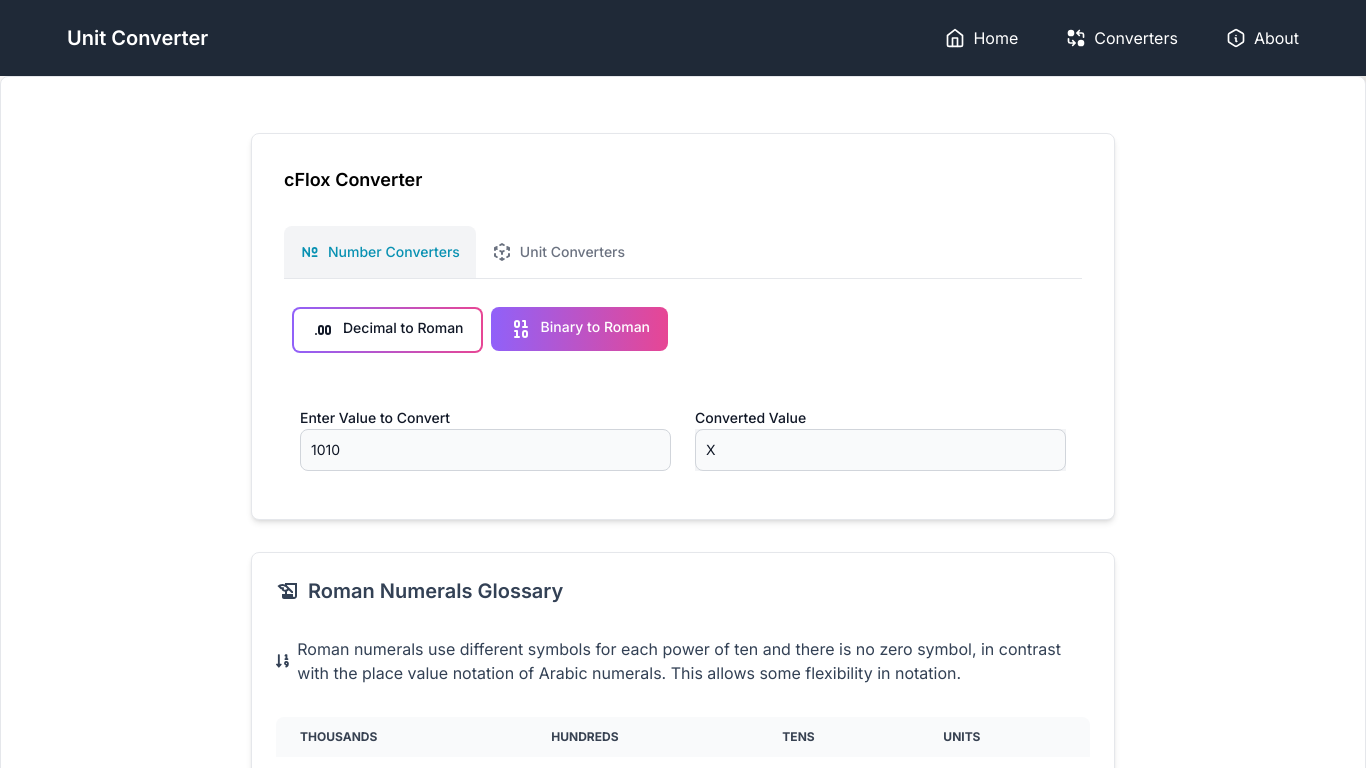
Test case: Converter Page E2E Tests › Unit Converters Tests › displays a loading state during Kilogram to Pound conversion
The image size is (1366, 768).
Click the tab "Unit Converters": {"x": 559, "y": 252} [476,226,641,278]
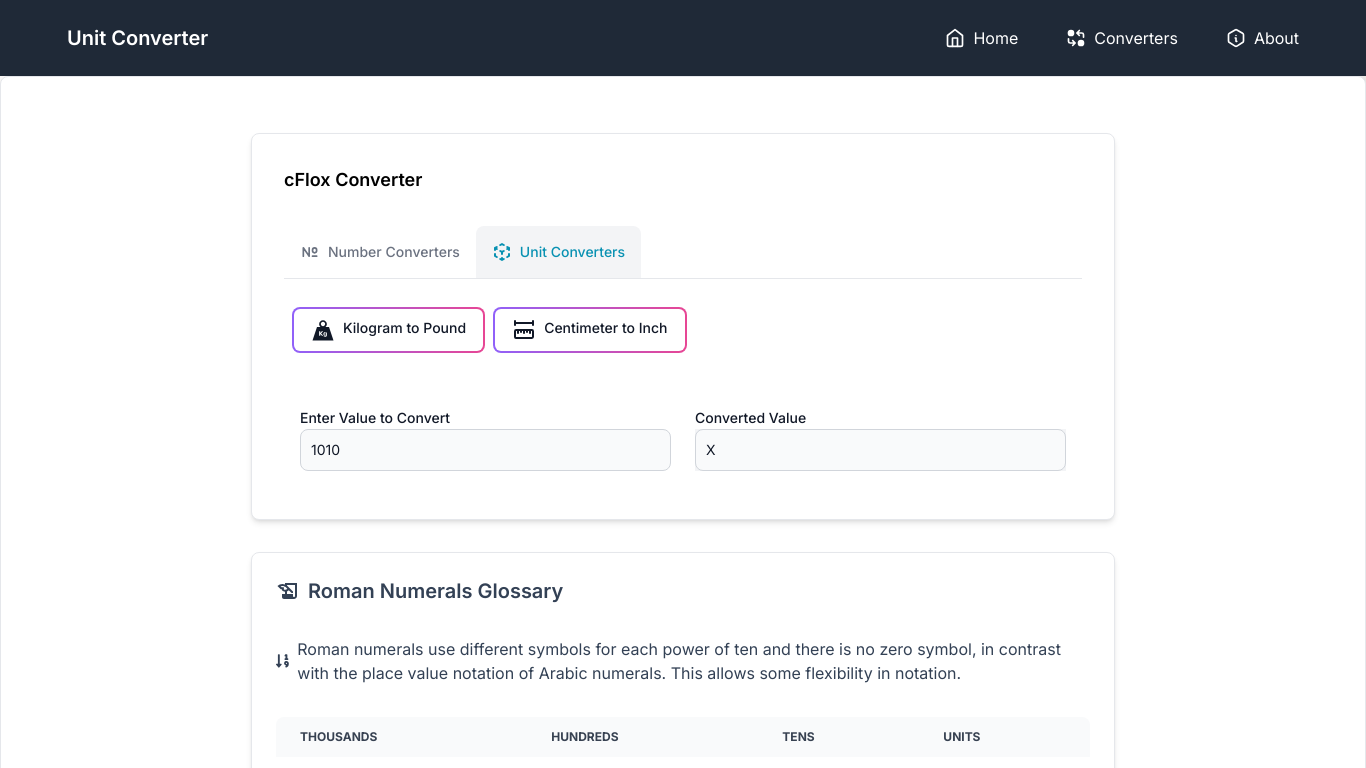
Click the button "Kilogram to Pound": {"x": 389, "y": 330} [292,307,485,353]
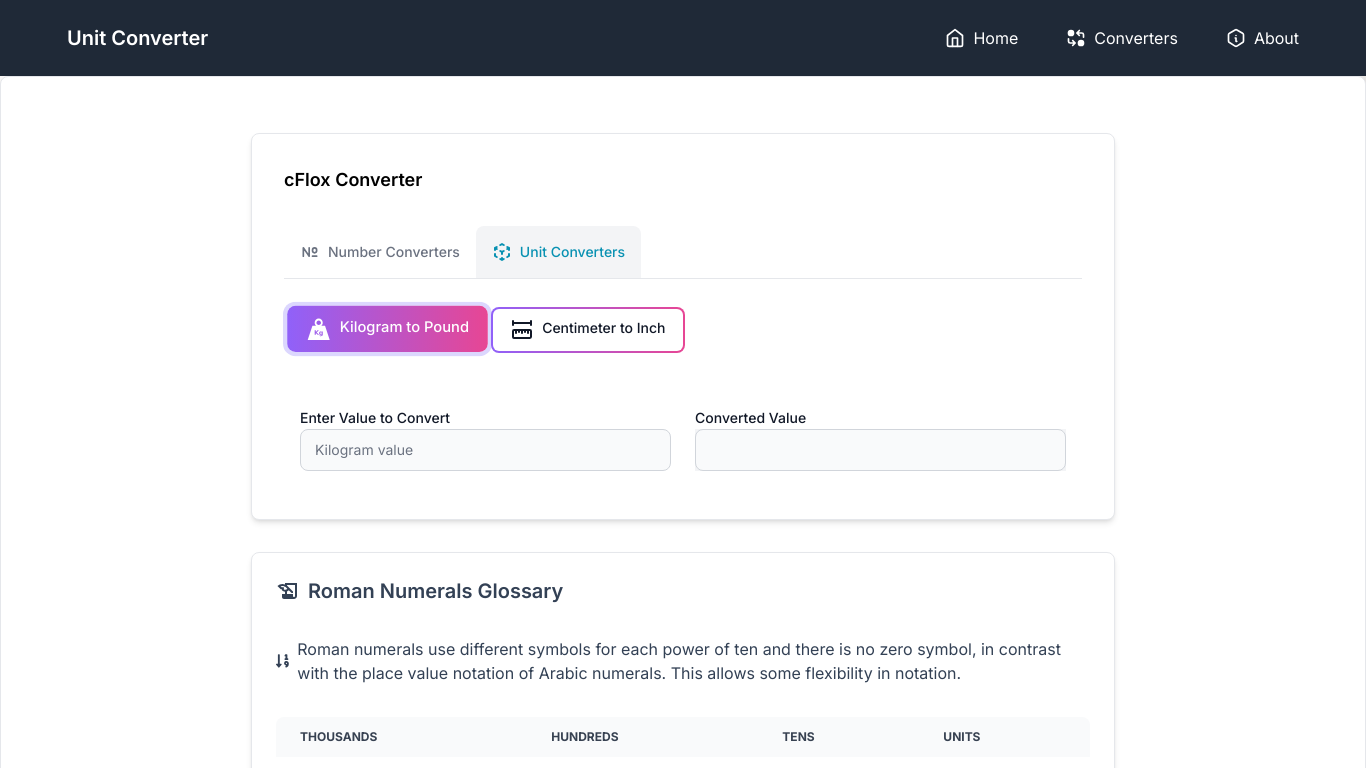
In the field with test id "test-input-value": {"x": 486, "y": 450} [300,429,671,471], type "10"
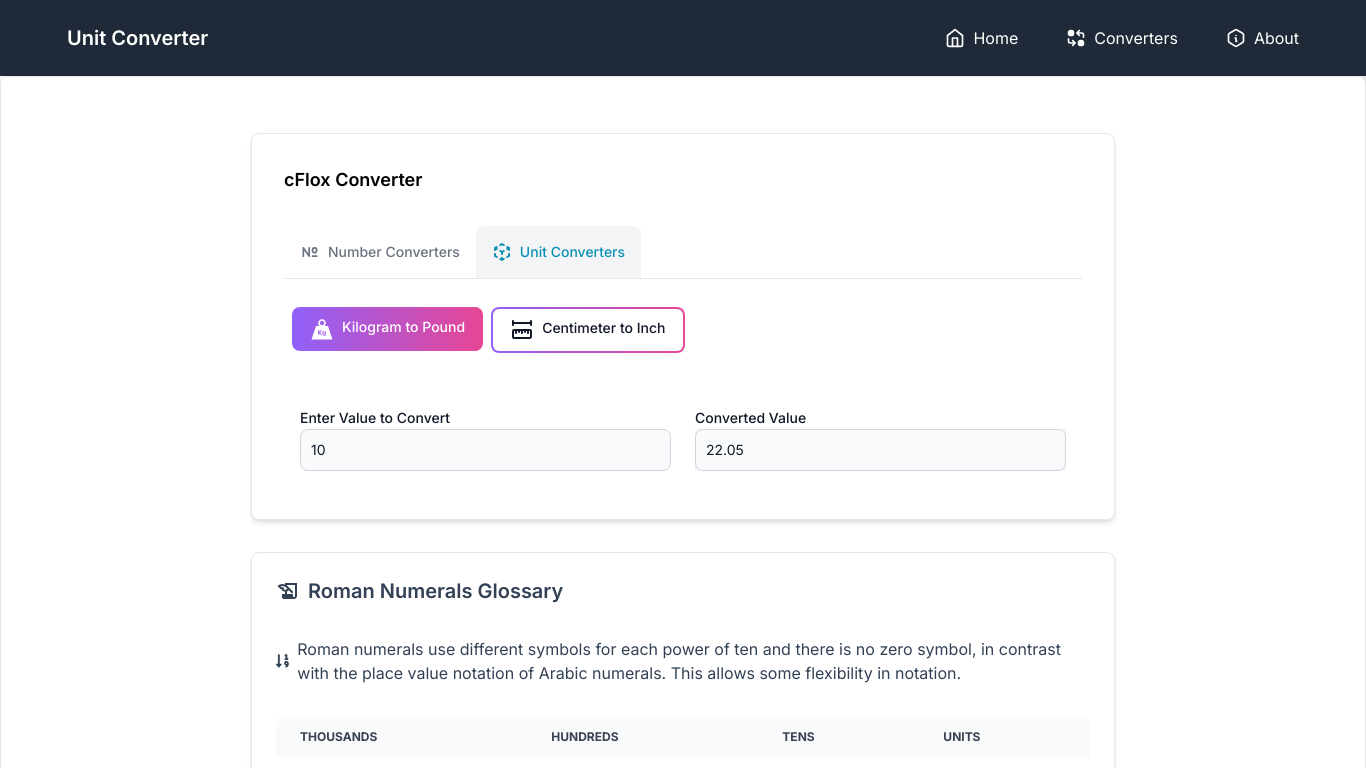
Check: the field with test id "test-output-value" holds "22.05", box [695,429,1066,471]
